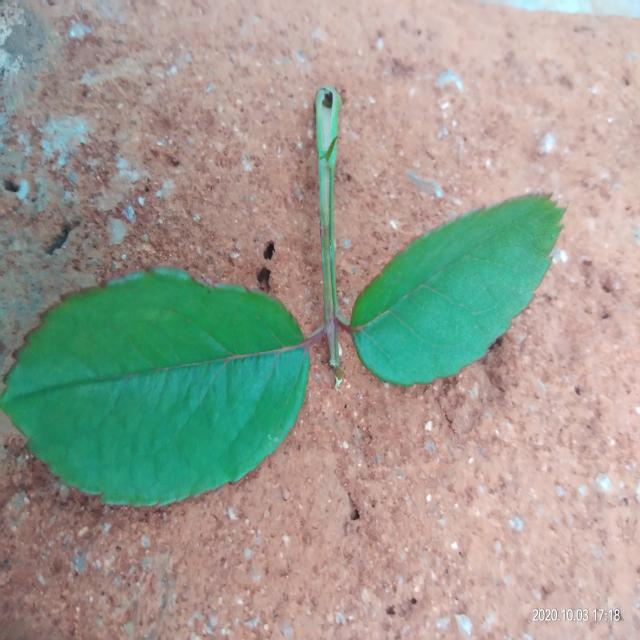rose: (0, 87, 564, 505)
